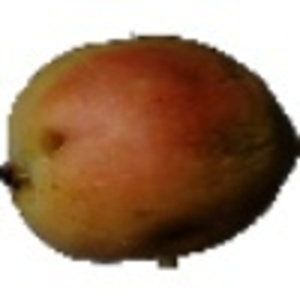mamão: (7, 29, 297, 256)
